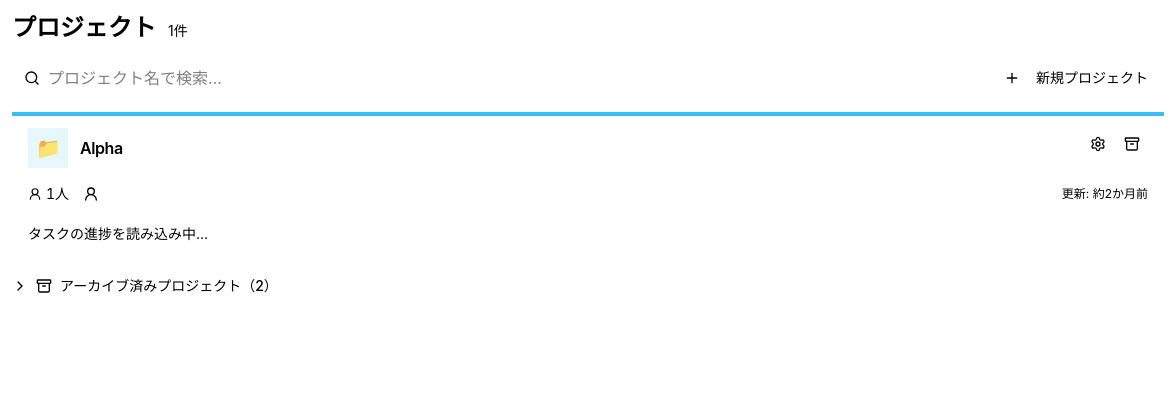
project directory › keeps archived projects searchable and expandable without inventing task counts
The width and height of the screenshot is (1176, 404).
In the field labelled "プロジェクト名で検索": (236, 78) [12,60,460,96], type "Beta"
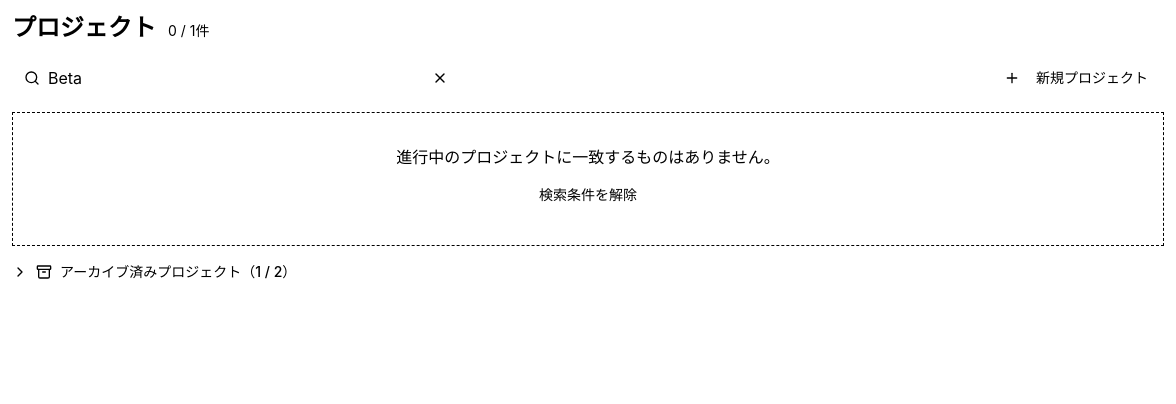
Now the button with test id "toggle-archived-projects" shows "1 / 2"
Click the button with test id "toggle-archived-projects": (154, 272) [12,262,296,282]
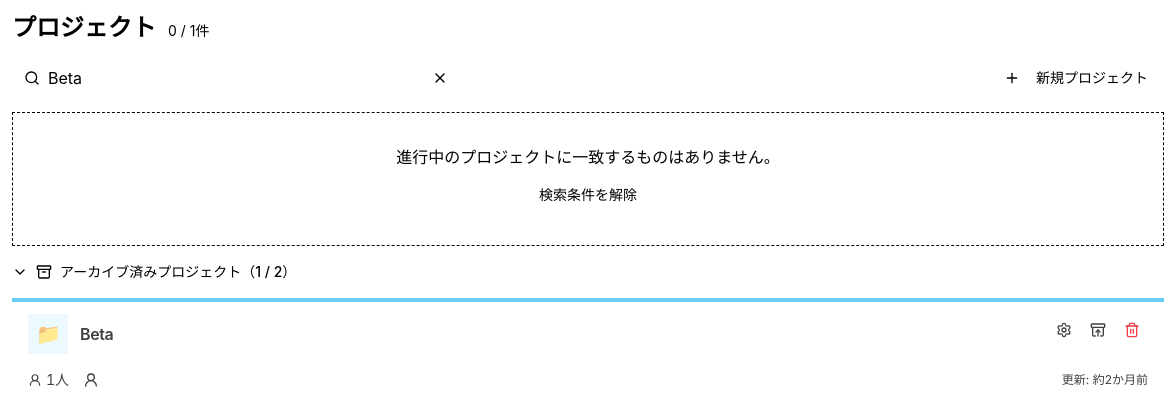
Now the link "📁 Beta" is shown, box [28,314,113,354]
